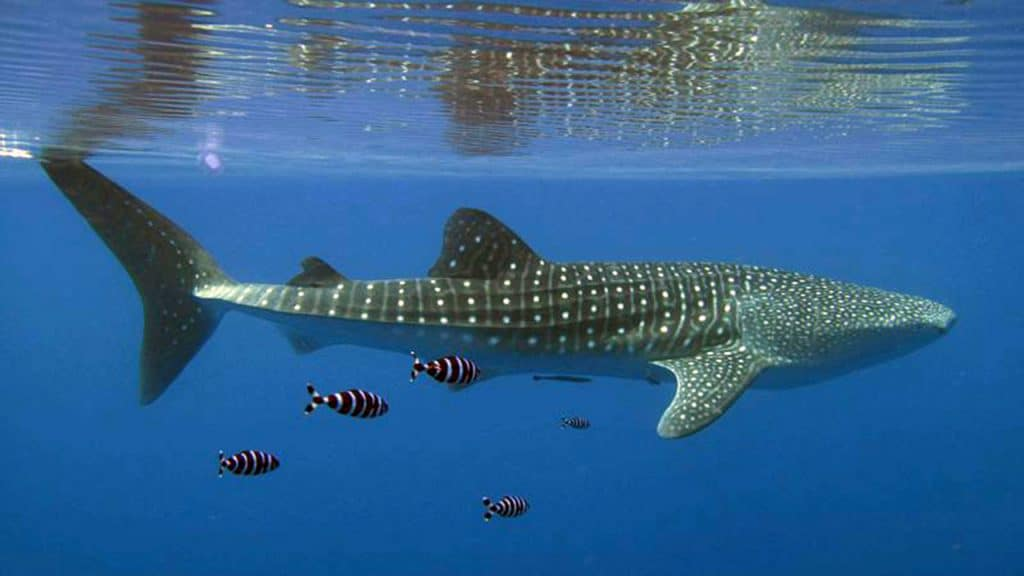shark: (38, 143, 967, 440)
